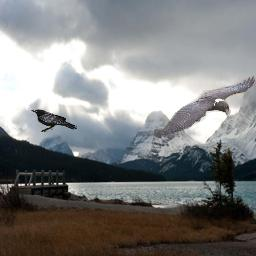Crow: (156, 75, 255, 137), (31, 109, 77, 132)
